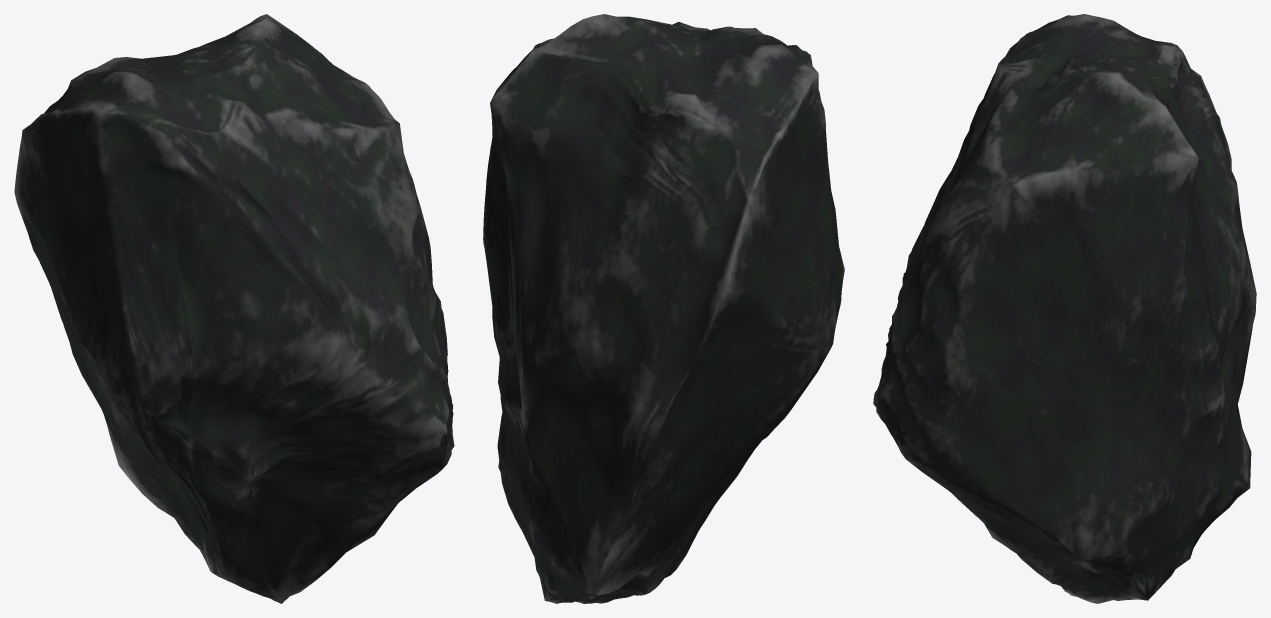
Rendered from rockDemo_00.glb.
The picture shows the model from 3 angles, left to right: view 1: azimuth 30°, elevation 25°; view 2: azimuth 150°, elevation 25°; view 3: azimuth 270°, elevation 25°; orthographic projection. The views are drawn at different scales.
Parts seen in each view (by area): view 1: Rock_00; view 2: Rock_00; view 3: Rock_00.
Boxes of the visible parts, x1,y1,x2,y2 form: Rock_00: (14, 14, 454, 603); Rock_00: (483, 14, 844, 603); Rock_00: (873, 14, 1256, 603).
Size of the model in its own units: 0.6667 by 1.23 by 0.8103.
Materials: 1 (1 with a texture image).
